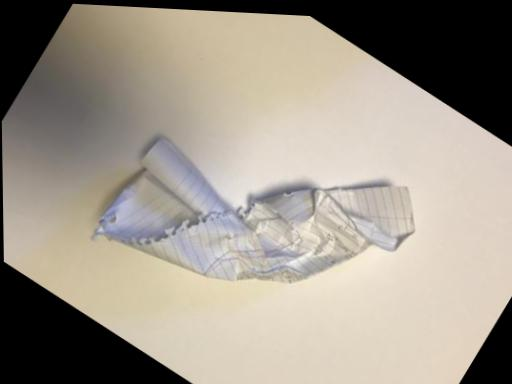paper: (38, 7, 462, 383)
